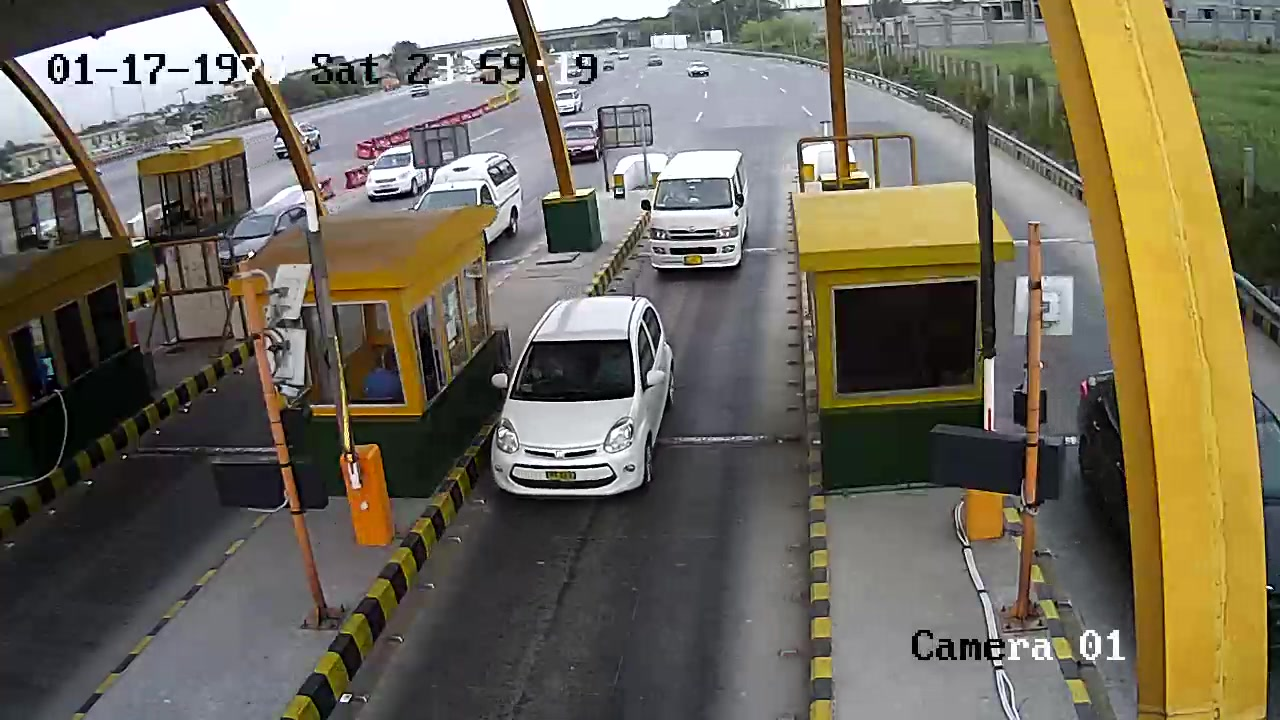F1: (475, 288, 681, 527)
F2: (634, 148, 758, 280)
